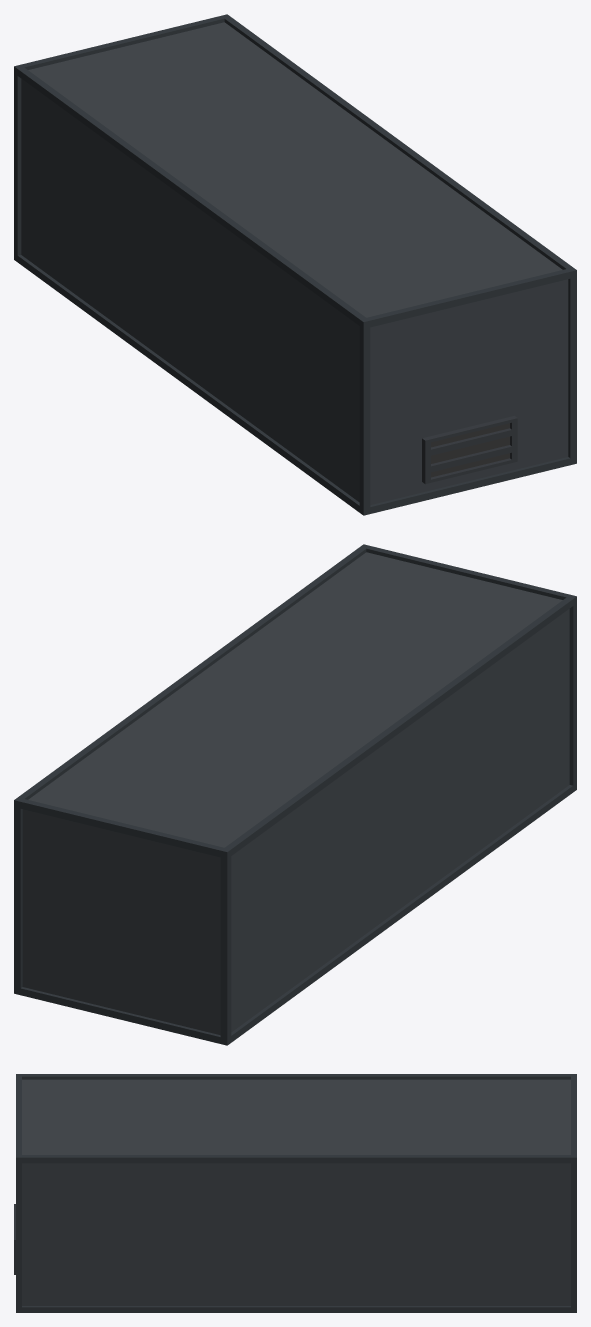
File: Container_4.fbx
The picture shows the model from 3 angles, top to bottom: view 1: azimuth 30°, elevation 25°; view 2: azimuth 150°, elevation 25°; view 3: azimuth 270°, elevation 25°; orthographic projection. The views are drawn at different scales.
Parts seen in each view (by area): view 1: Container_4; view 2: Container_4; view 3: Container_4.
Part boxes in pixels (x1,y1,x2,y2): Container_4: (14,14,576,515); Container_4: (14,544,576,1045); Container_4: (14,1074,576,1312).
Size of the model in its own units: 204 by 176 by 580.
